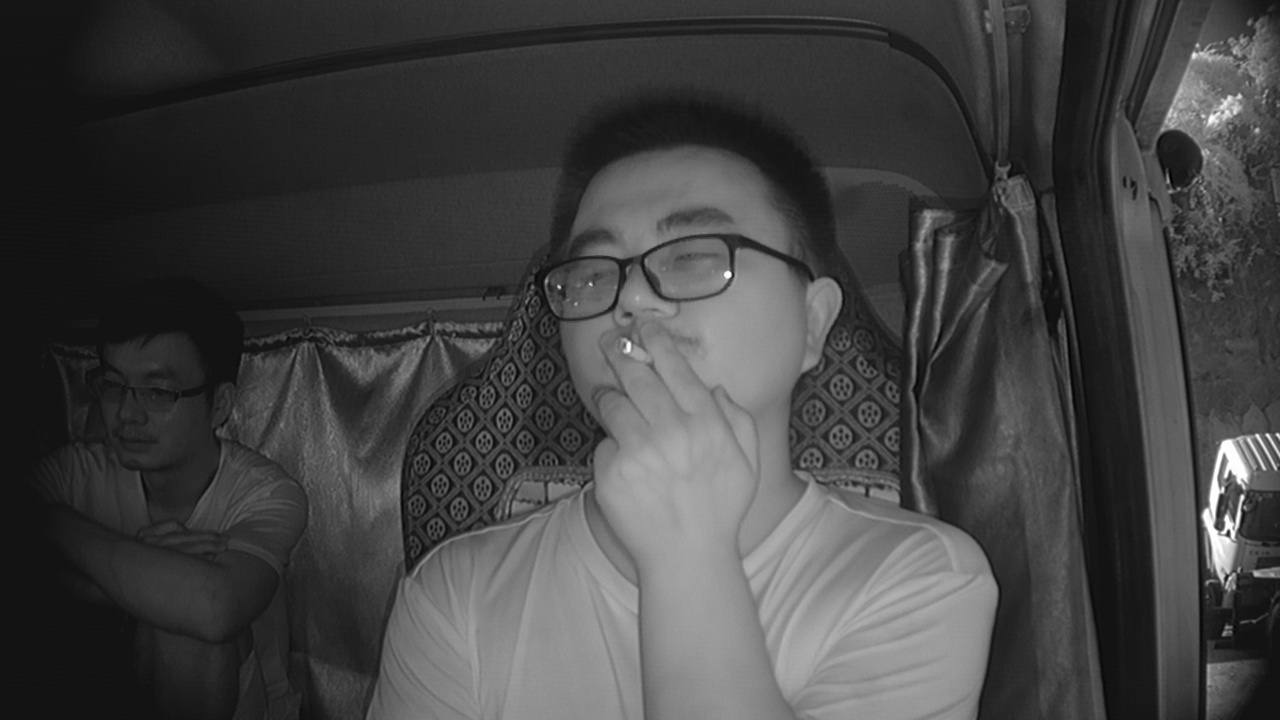hand: (573, 319, 763, 532)
